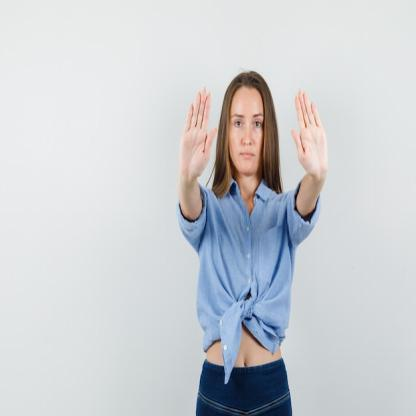stop: (282, 84, 332, 186), (176, 80, 218, 192)
